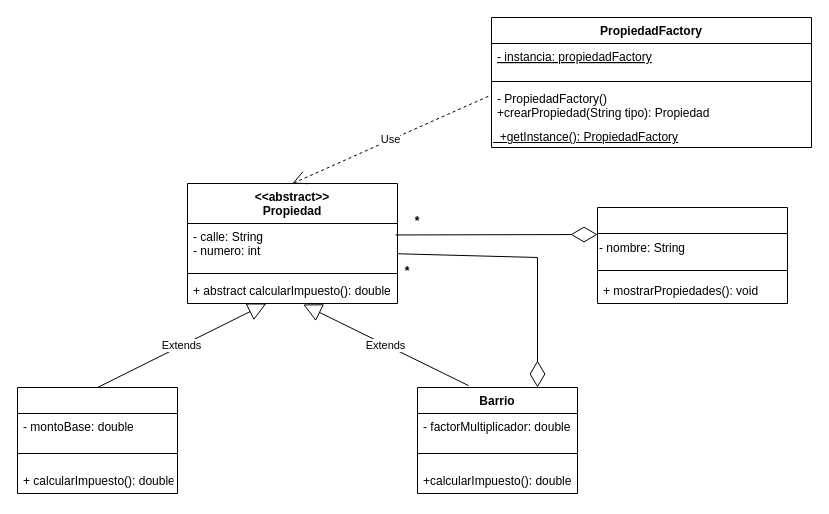
Some shapes in this 829 by 514 pixel diagram are drawn without their labels. The box of each missing label's shape, as (x1, y1, x2, y2) in pixels:
Casa: (16, 386, 178, 494)
Municipalidad: (596, 206, 788, 304)
